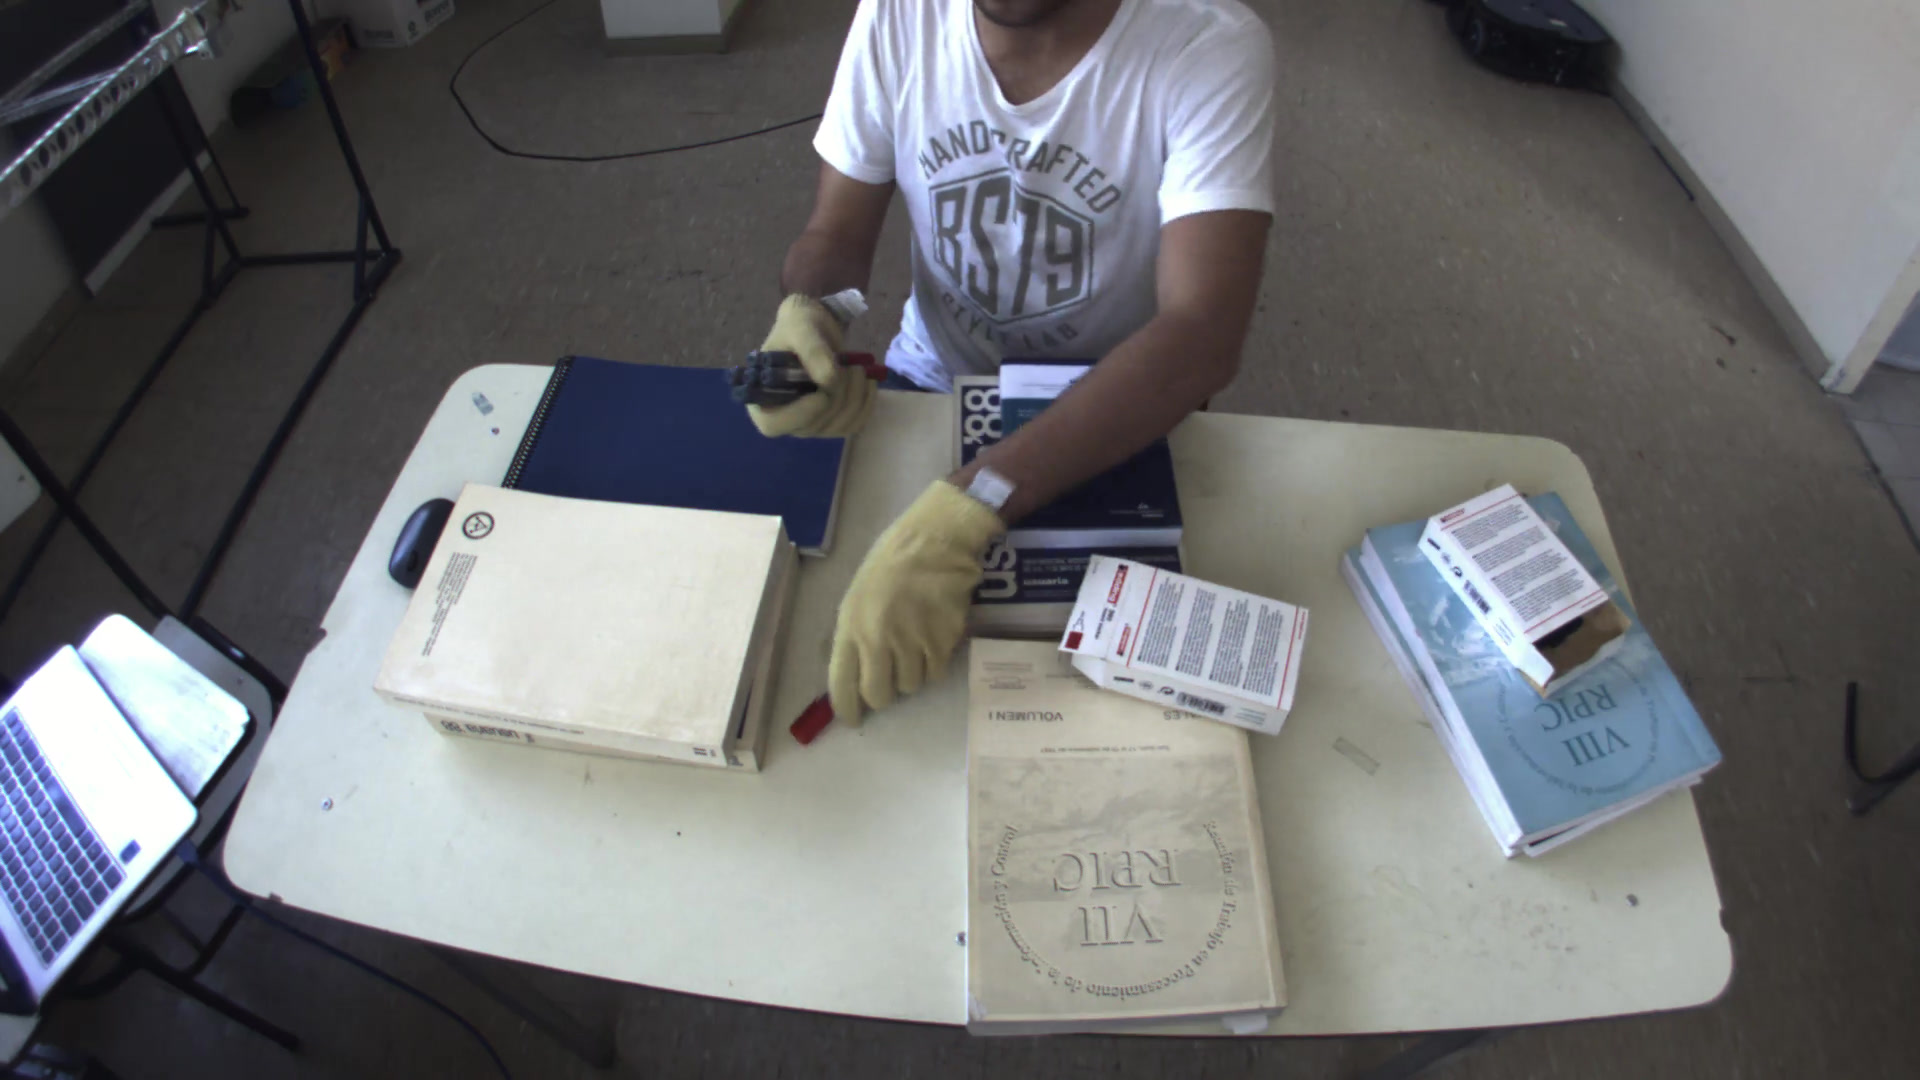hand: (815, 477, 1015, 719), (717, 284, 893, 458)
